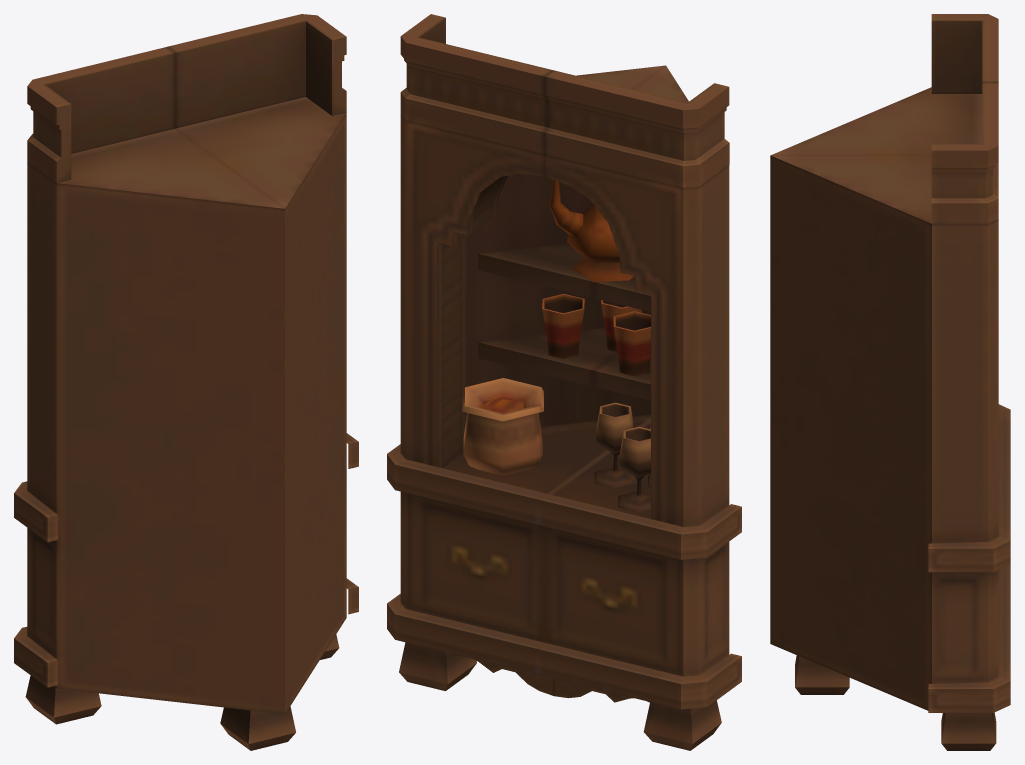
Rendered from Kitchen_Cupborad_02.gltf.
3 views of the same model, side by side, from view 1: azimuth 30°, elevation 25°; view 2: azimuth 150°, elevation 25°; view 3: azimuth 270°, elevation 25° (orthographic). The views are drawn at different scales.
Parts seen in each view (by area): view 1: Kitchen_Cupborad_02; view 2: Kitchen_Cupborad_02; view 3: Kitchen_Cupborad_02.
Boxes of the visible parts, x1,y1,x2,y2 form: Kitchen_Cupborad_02: (14,14,358,750); Kitchen_Cupborad_02: (387,14,741,750); Kitchen_Cupborad_02: (770,14,1010,750).
Size of the model in its own units: 44.02 by 84.46 by 30.45.
Materials: 1 (1 with a texture image).
